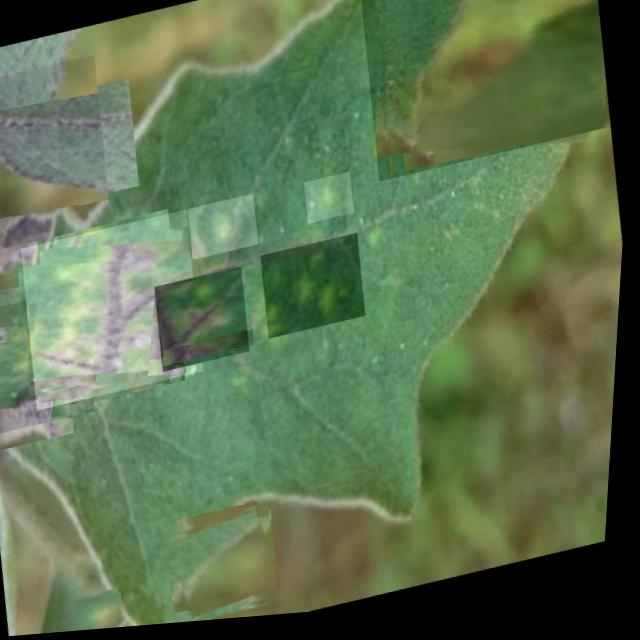leaf_spot: (347, 0, 621, 189), (16, 210, 215, 412), (0, 53, 121, 254), (192, 235, 334, 380), (0, 286, 105, 436), (168, 503, 290, 627), (260, 237, 374, 343), (154, 269, 259, 375), (188, 196, 264, 263), (305, 176, 360, 229), (80, 589, 137, 633)
